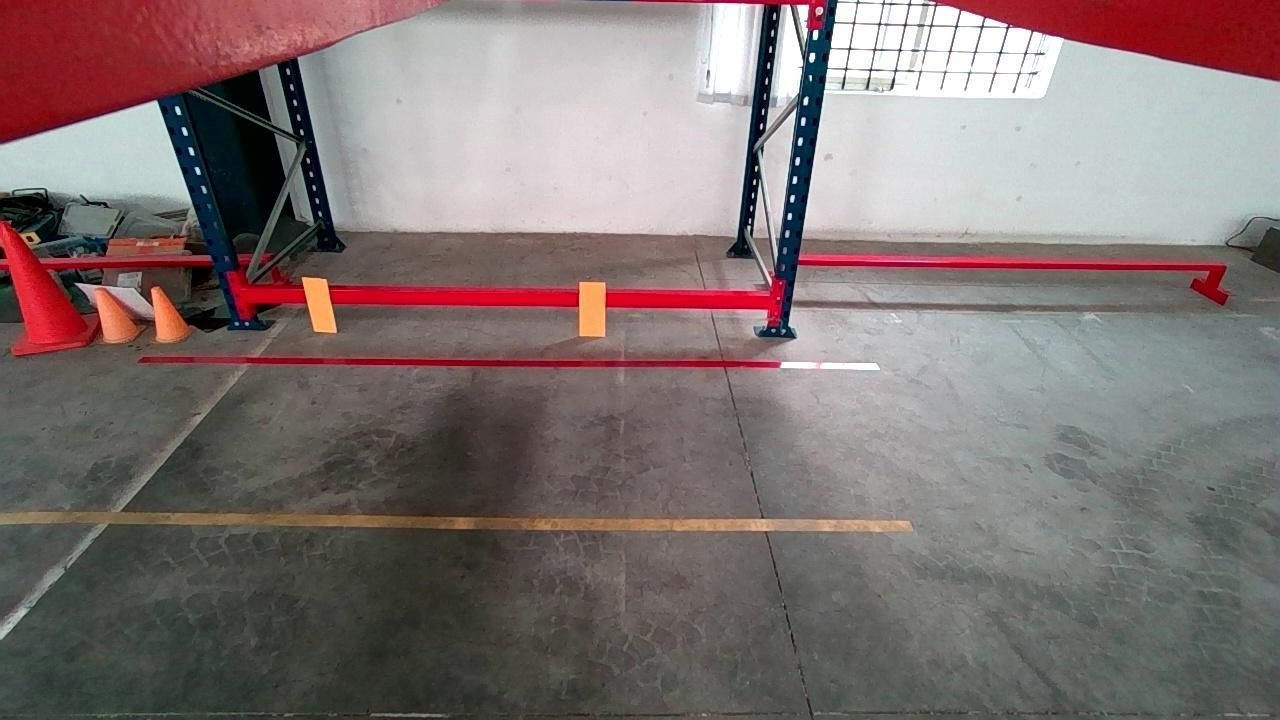h_rack: (239, 288, 772, 309)
orange_strip: (301, 276, 337, 331), (578, 281, 607, 335)
red_line: (134, 352, 880, 370)
yellow_line: (1, 511, 915, 534)
